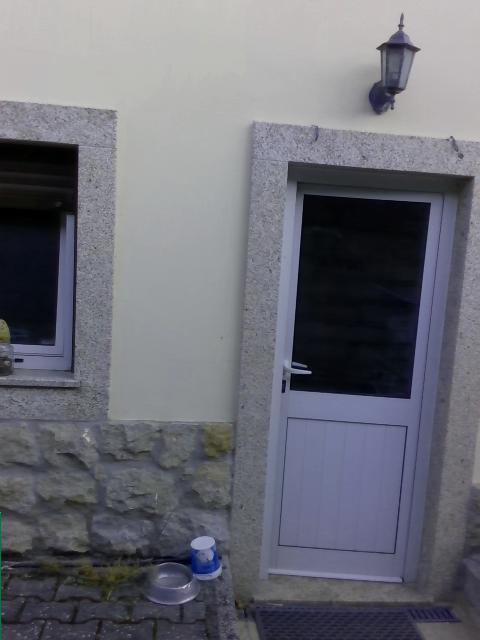closed_door: (259, 169, 460, 581)
